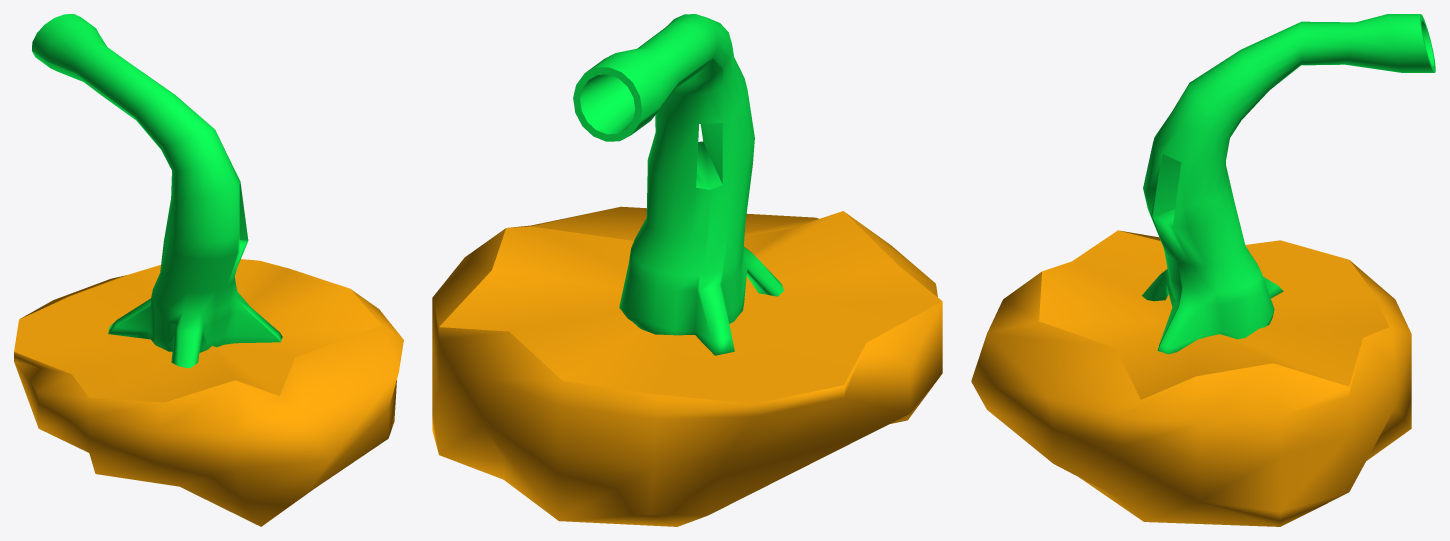
File: BigIsland_low (1).fbx
The picture shows the model from 3 angles, left to right: view 1: azimuth 30°, elevation 25°; view 2: azimuth 150°, elevation 25°; view 3: azimuth 270°, elevation 25°; orthographic projection. The views are drawn at different scales.
Parts seen in each view (by area): view 1: Island_low, BigTree_low; view 2: Island_low, BigTree_low; view 3: Island_low, BigTree_low.
Part boxes in pixels (x1,y1,x2,y2): Island_low: (14,259,403,526); BigTree_low: (32,14,282,368); Island_low: (432,206,942,526); BigTree_low: (573,14,783,355); Island_low: (971,230,1411,526); BigTree_low: (1142,14,1435,354).
Bounding box in the file's own units: 1875 × 2109 × 2051.
